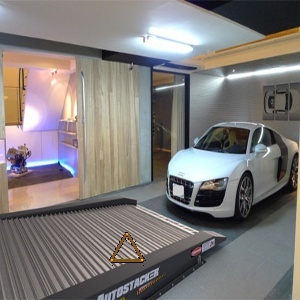triangle: (108, 231, 146, 265)
